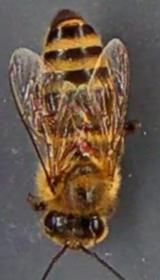varroa_mite: (73, 140, 95, 162)
